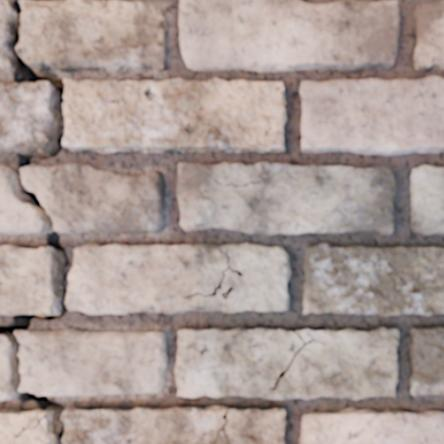brick: (64, 79, 286, 152), (180, 0, 399, 72), (176, 328, 398, 399), (177, 163, 396, 234), (67, 244, 290, 313), (301, 78, 443, 155), (303, 244, 443, 315), (62, 406, 227, 443), (300, 409, 443, 443), (0, 245, 61, 314), (0, 83, 55, 152), (409, 327, 443, 395), (412, 166, 443, 234), (227, 409, 286, 443), (414, 2, 443, 71), (0, 411, 57, 443), (0, 83, 15, 95), (299, 331, 311, 341), (217, 433, 226, 443)
broken_brick: (18, 0, 168, 75), (17, 328, 168, 397), (22, 163, 166, 234), (0, 166, 47, 236), (0, 337, 18, 400), (0, 0, 15, 74)
crack: (0, 0, 69, 442), (269, 329, 326, 392), (212, 408, 231, 443), (0, 282, 3, 291)
